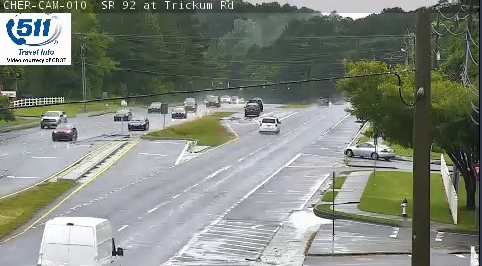car: (259, 117, 279, 133)
van: (39, 217, 119, 266)
